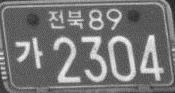0: (107, 34, 136, 83)
2: (52, 36, 82, 84)
3: (79, 34, 108, 83)
4: (139, 32, 165, 83)
8: (88, 7, 103, 30)
9: (106, 7, 122, 31)
가: (14, 36, 43, 69)
전북_O: (48, 8, 84, 29)
